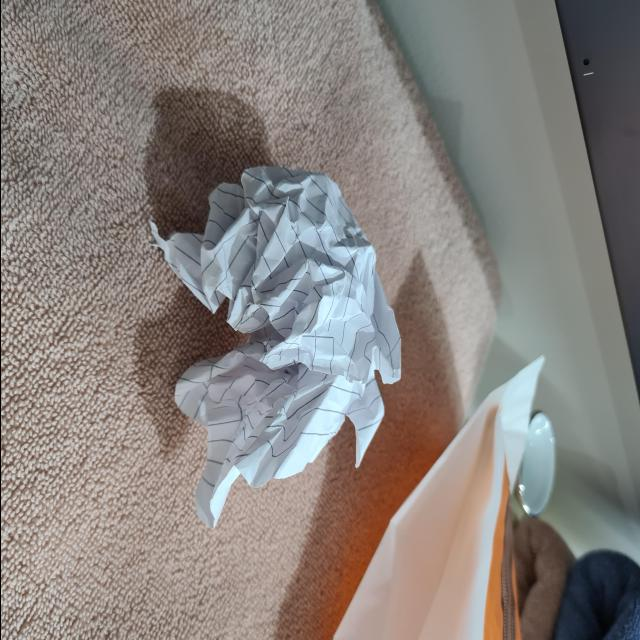kertas: (158, 163, 402, 489)
